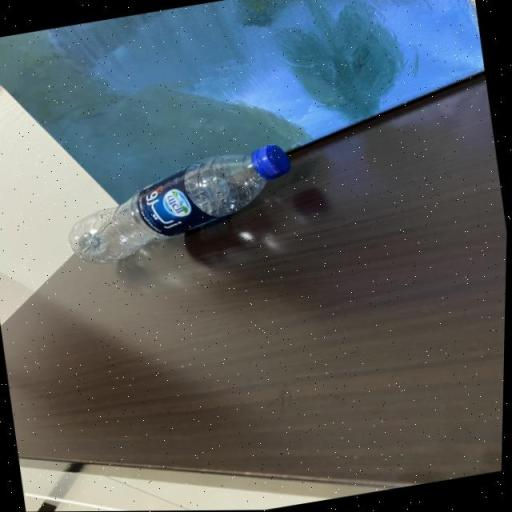plastic: (69, 145, 292, 264)
